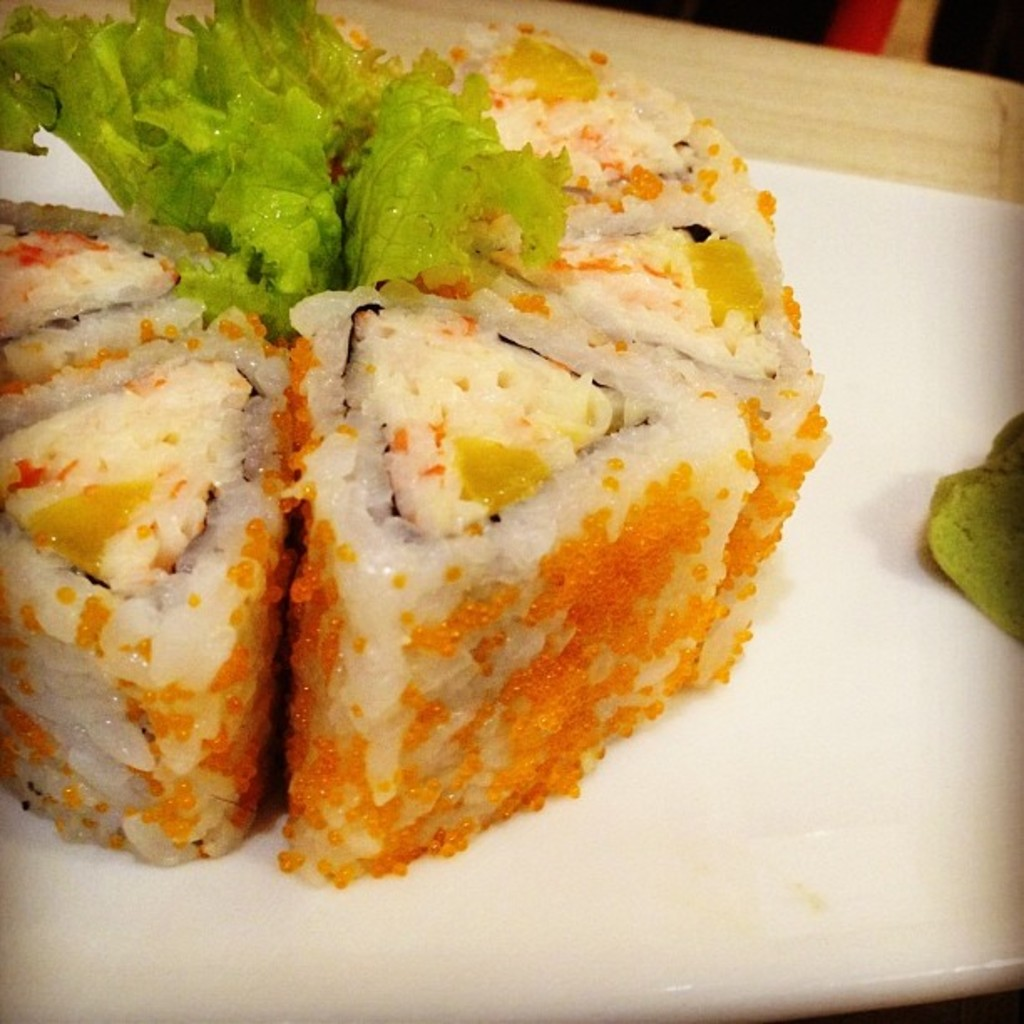sushi: (0, 22, 818, 882), (25, 199, 293, 934)
